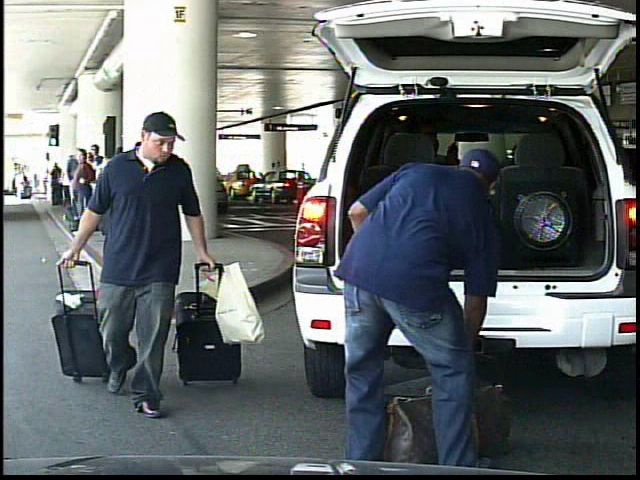person: (329, 116, 515, 476), (76, 111, 231, 426), (270, 161, 282, 193), (14, 170, 25, 201)
